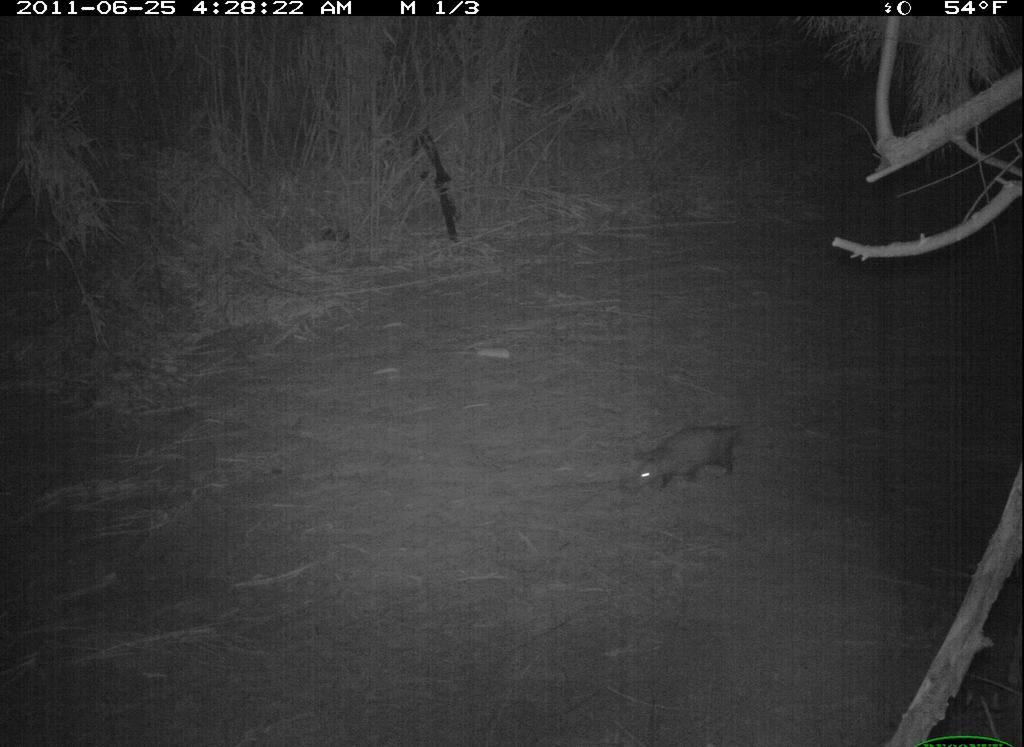opossum: (616, 419, 765, 502)
